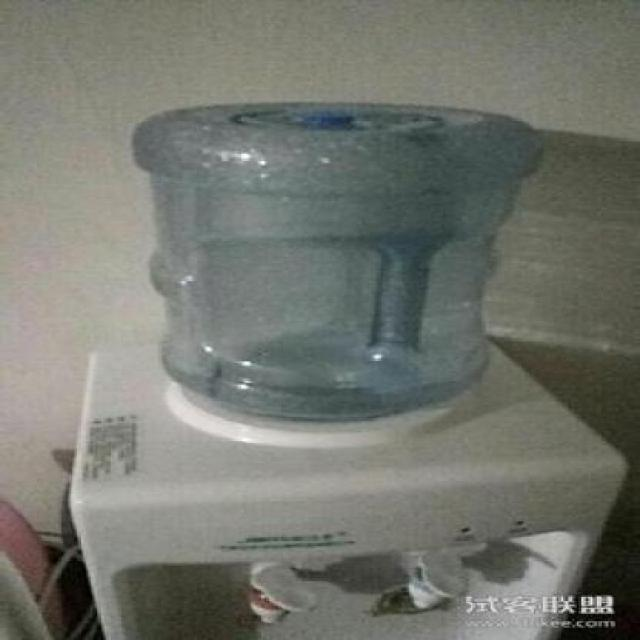coolerbottle: (128, 95, 560, 427)
